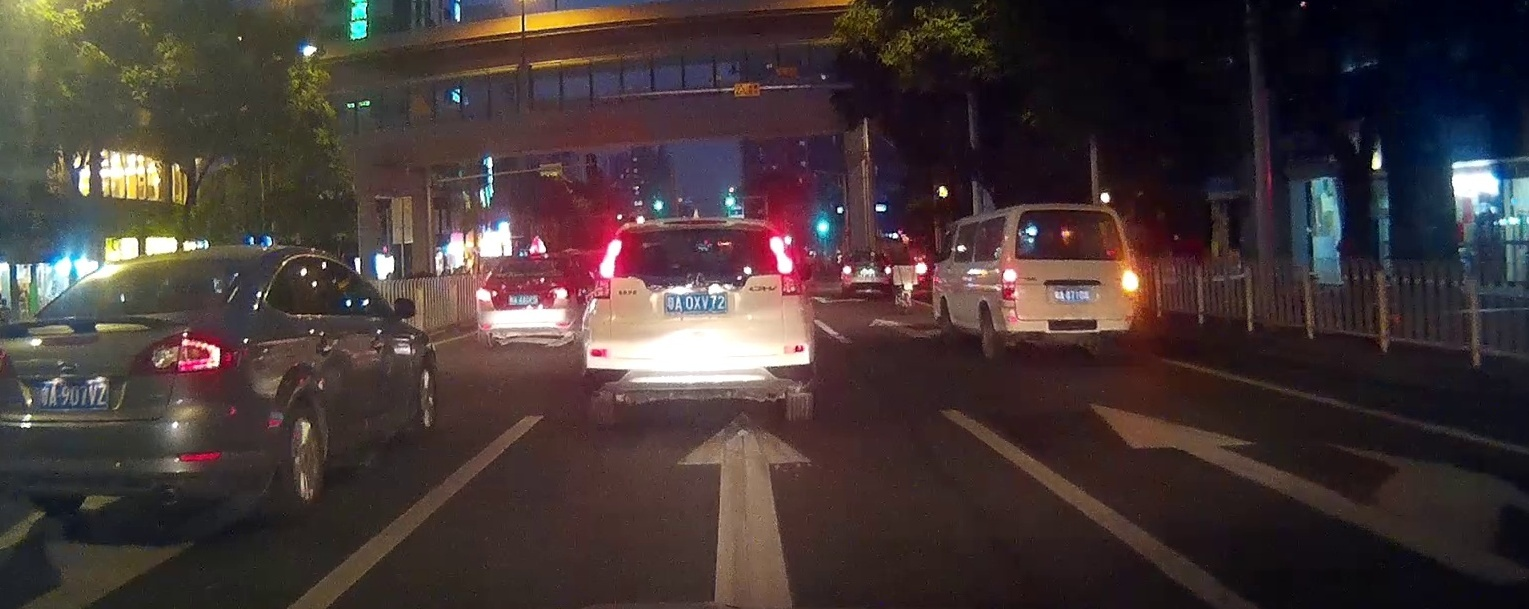L_light: (594, 239, 621, 297), (1001, 269, 1017, 300), (476, 289, 497, 301), (841, 265, 854, 273)
R_light: (770, 236, 803, 296), (1120, 267, 1139, 297), (545, 287, 567, 299), (880, 266, 892, 274)
T_light: (666, 219, 726, 225), (1062, 209, 1083, 216), (527, 258, 543, 263), (862, 251, 875, 256)
night-no: (582, 216, 814, 422), (475, 256, 574, 350), (840, 250, 893, 298)
night-right: (1000, 203, 1140, 359)
